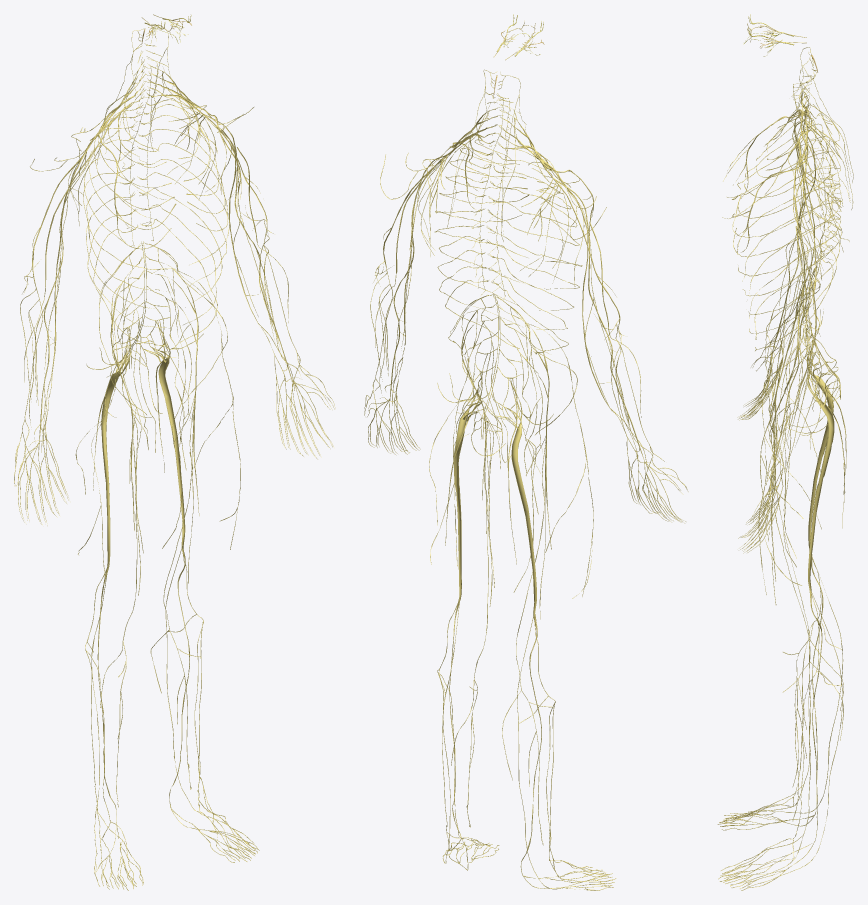
File: body-nerves.lod2.glb
3 views of the same model, side by side, from view 1: azimuth 30°, elevation 25°; view 2: azimuth 150°, elevation 25°; view 3: azimuth 270°, elevation 25° (orthographic). The views are drawn at different scales.
Parts seen in each view (by area): view 1: intercostal-nerves-r, intercostal-nerves-l, sciatic-nerve-l, sciatic-nerve-r; view 2: intercostal-nerves-l, intercostal-nerves-r, sciatic-nerve-r, sciatic-nerve-l, saphenous-nerve-r; view 3: intercostal-nerves-l, intercostal-nerves-r, sciatic-nerve-l, sciatic-nerve-r, saphenous-nerve-l, median-nerve-l, saphenous-nerve-r, lateral-femoral-cutaneous-nerve-l, ulnar-nerve-l, lateral-femoral-cutaneous-nerve-r, femoral-nerve-l, tibial-nerve-l (+6 smaller).
Part boxes in pixels (x1,y1,x2,y2): intercostal-nerves-r: [83, 101, 176, 346]; intercostal-nerves-l: [143, 95, 229, 342]; sciatic-nerve-l: [143, 320, 185, 545]; sciatic-nerve-r: [101, 328, 130, 564]; intercostal-nerves-l: [434, 139, 528, 348]; intercostal-nerves-r: [492, 147, 582, 354]; sciatic-nerve-r: [496, 379, 536, 613]; sciatic-nerve-l: [454, 375, 481, 594]; saphenous-nerve-r: [502, 439, 545, 845]; intercostal-nerves-l: [732, 127, 842, 350]; intercostal-nerves-r: [732, 115, 841, 339]; sciatic-nerve-l: [807, 353, 834, 589]; sciatic-nerve-r: [807, 351, 833, 548]; saphenous-nerve-l: [771, 423, 843, 821]; median-nerve-l: [771, 172, 805, 476]; saphenous-nerve-r: [772, 403, 843, 787]; lateral-femoral-cutaneous-nerve-l: [758, 304, 821, 594]; ulnar-nerve-l: [780, 165, 816, 445]; lateral-femoral-cutaneous-nerve-r: [760, 280, 820, 535]; femoral-nerve-l: [768, 285, 811, 541]; tibial-nerve-l: [809, 588, 822, 840].
Size of the model in its own units: 0.6474 by 1.63 by 0.2419.
